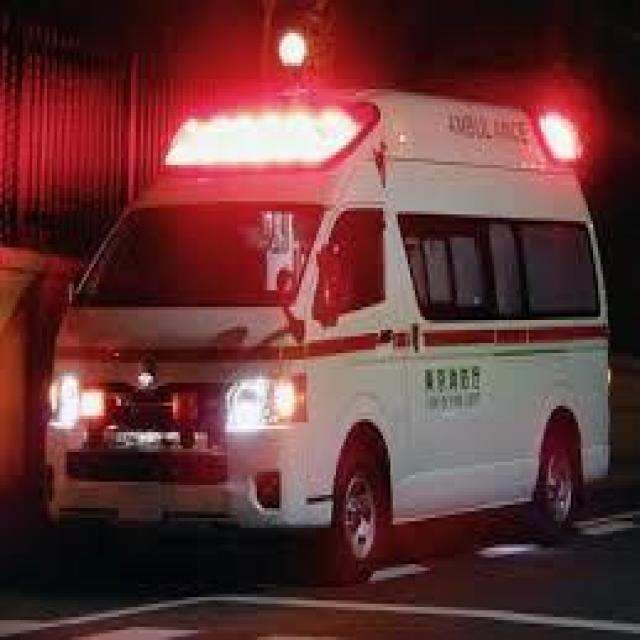ambulance: (26, 2, 640, 301)
